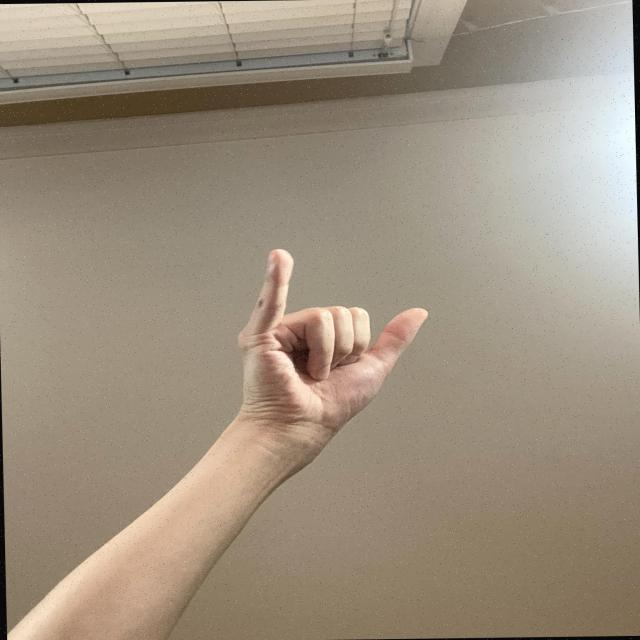Y: (219, 238, 446, 450)
